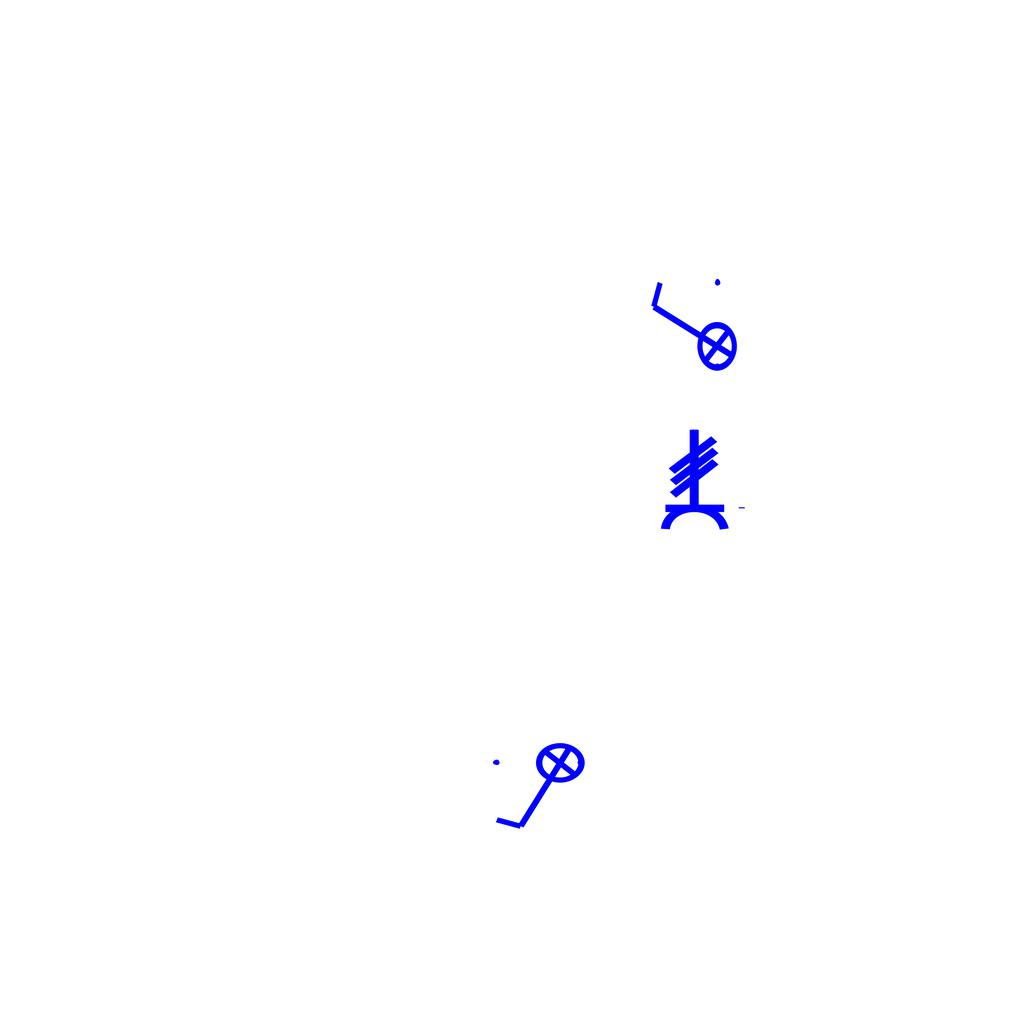Ausschalter_beleuchtet: (643, 273, 739, 385), (487, 741, 599, 837)
CEE_Drehstrom_Steckdose_16_32_A: (658, 428, 748, 532)
